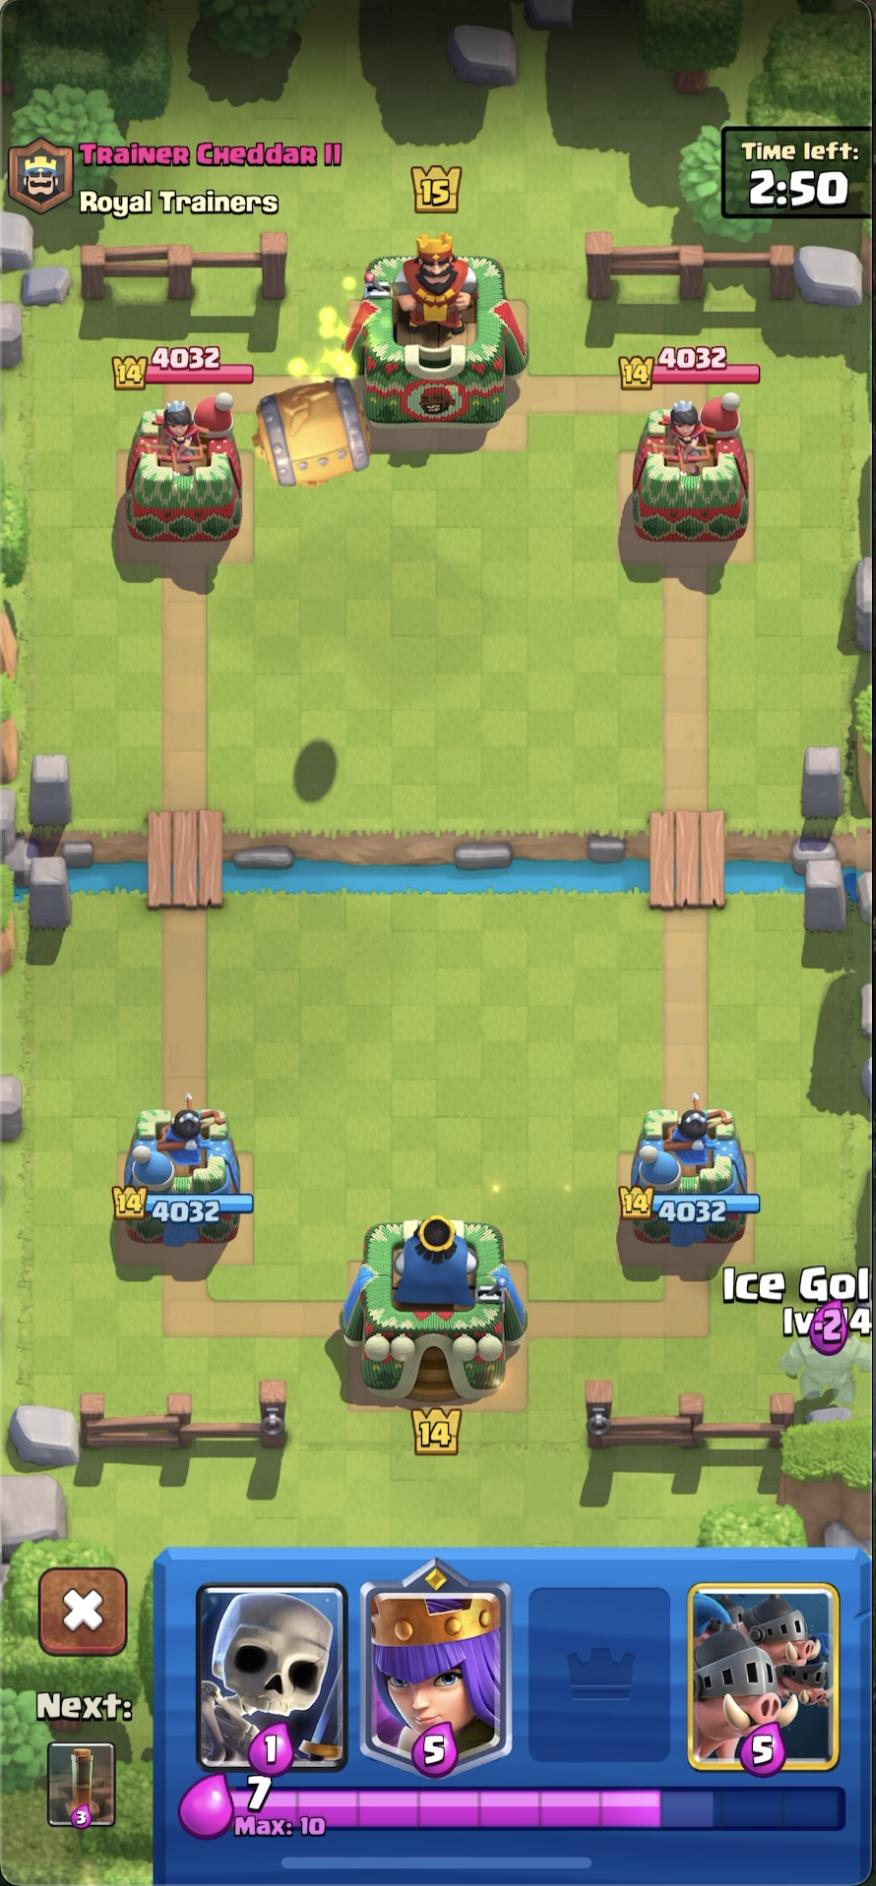elixir bar: (177, 1772, 357, 1849)
timer: (720, 130, 876, 215)
